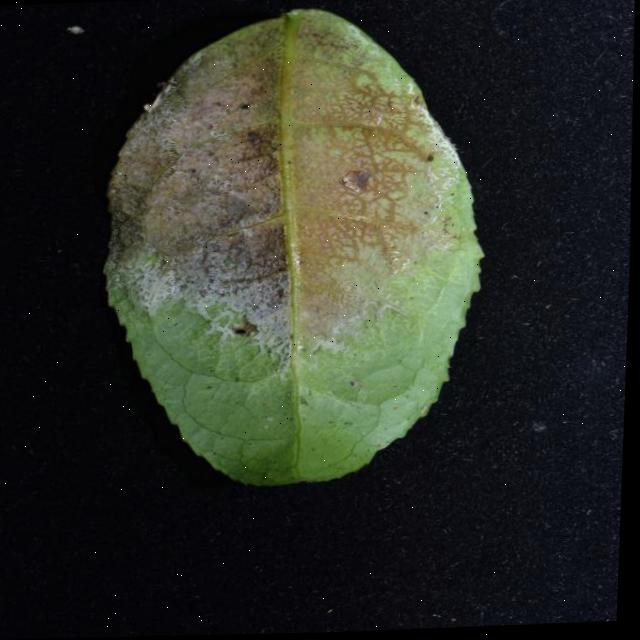Tea exobasidium blight: (116, 26, 451, 330)
